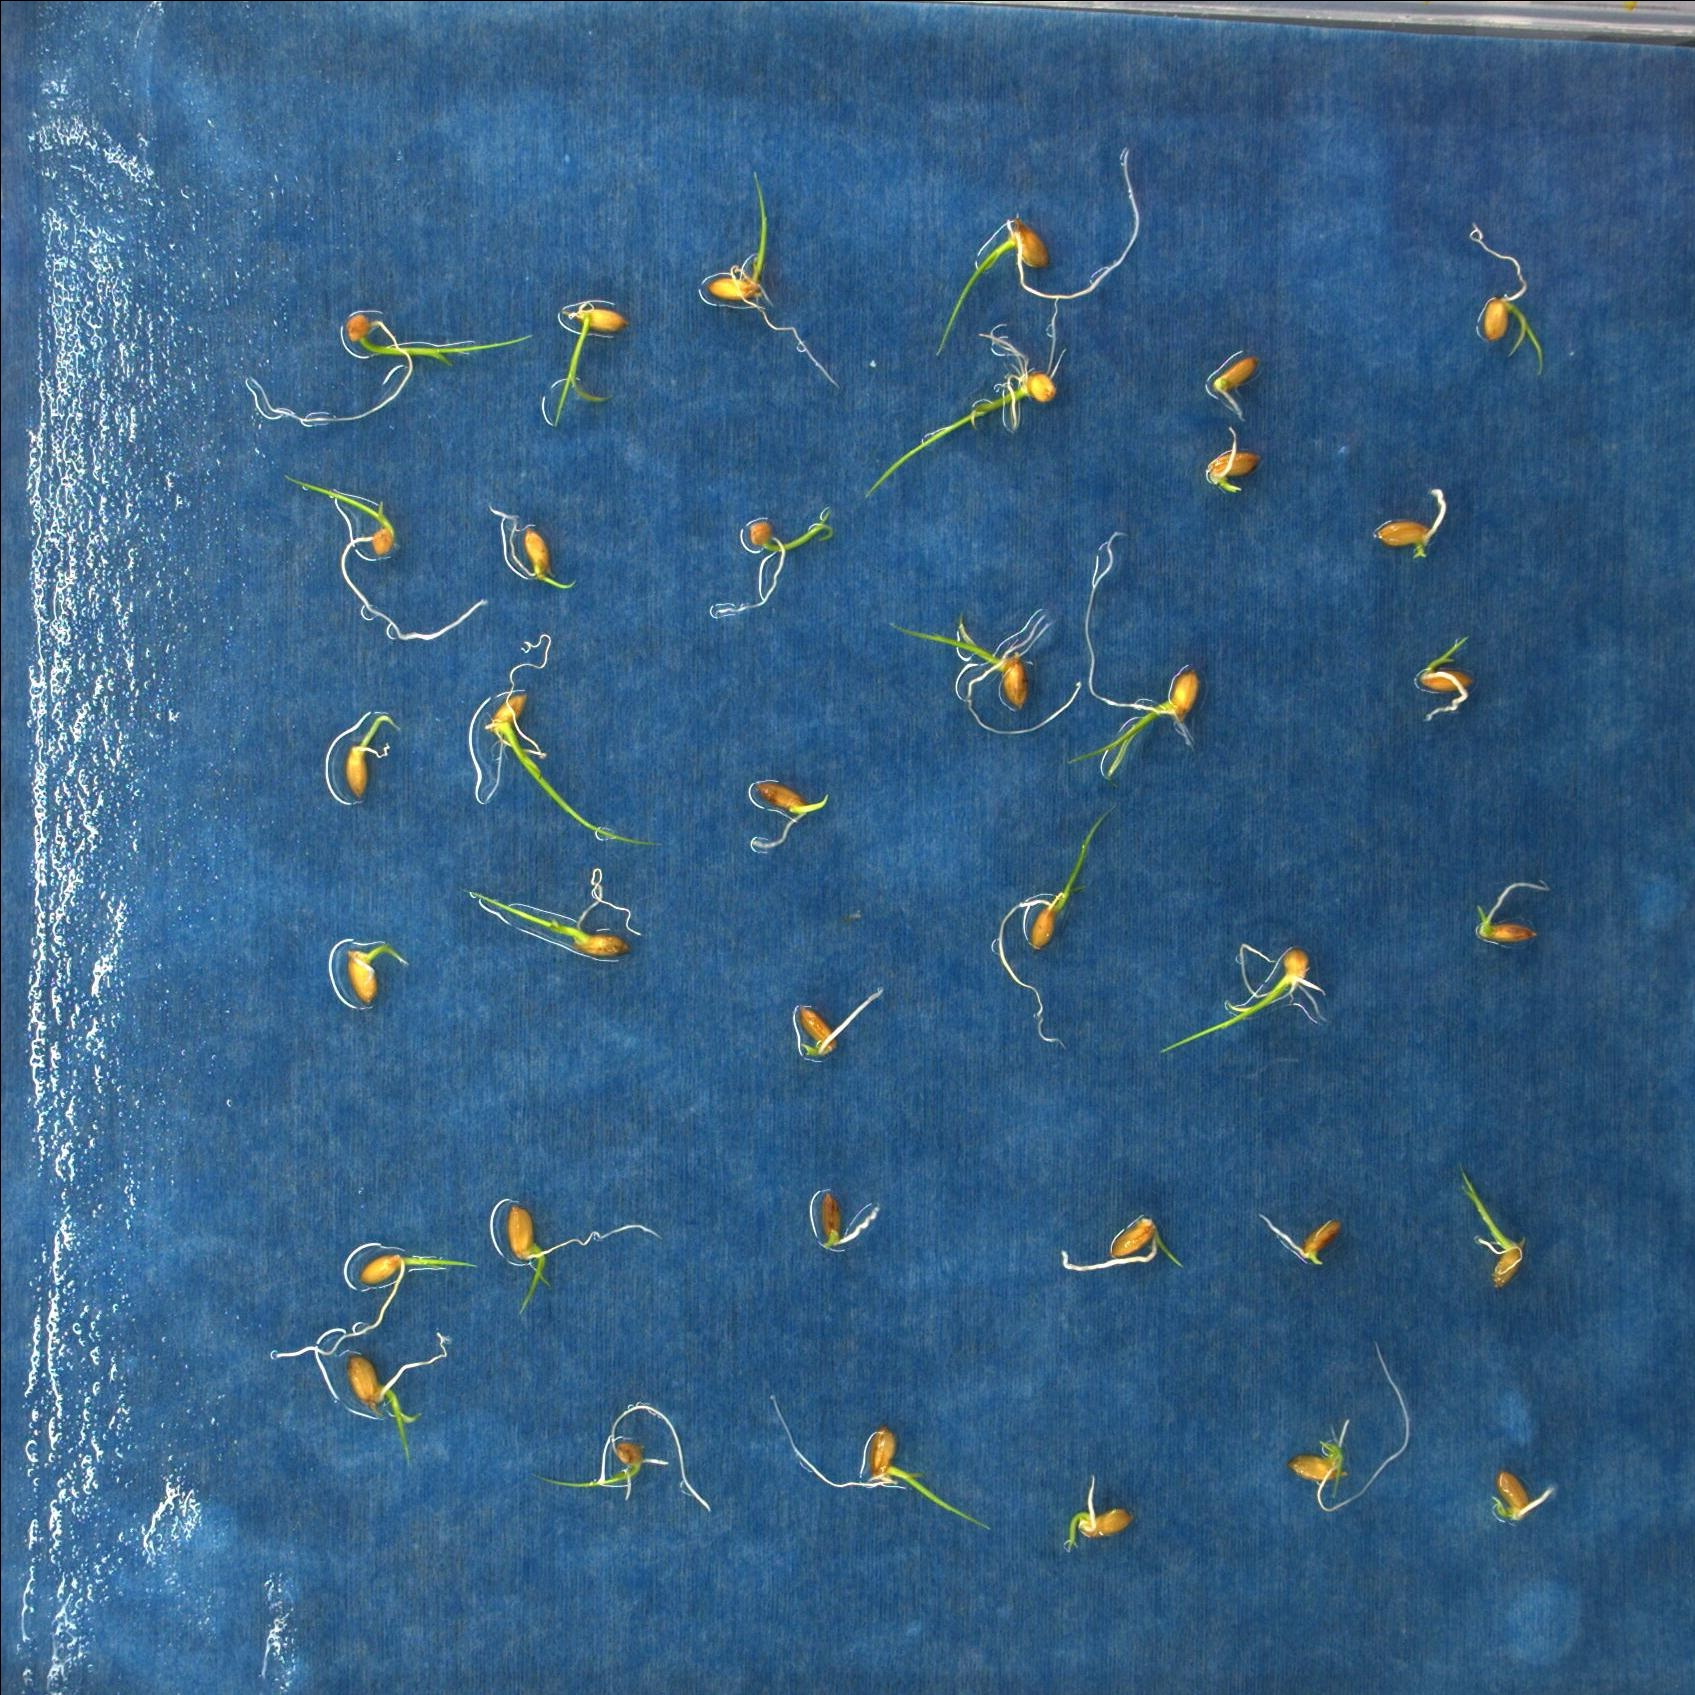not sprout: (795, 987, 885, 1060), (1371, 486, 1444, 560), (802, 1191, 883, 1257), (1259, 1208, 1340, 1267), (1197, 349, 1256, 421)
sprout: (934, 143, 1141, 357), (861, 296, 1065, 497), (484, 633, 664, 847), (1063, 531, 1200, 782), (241, 309, 534, 425), (284, 473, 486, 643), (771, 1394, 993, 1534), (705, 168, 841, 393), (992, 809, 1107, 1052), (877, 615, 1083, 736), (275, 1245, 480, 1360), (1288, 1333, 1412, 1513), (536, 1400, 714, 1515), (1156, 942, 1329, 1060), (459, 866, 646, 965), (506, 1201, 664, 1316), (709, 504, 838, 612), (351, 1335, 452, 1471), (1467, 224, 1544, 379), (540, 300, 626, 427), (1458, 1167, 1526, 1295), (487, 503, 577, 591), (1063, 1212, 1184, 1273), (745, 778, 830, 849), (1066, 1473, 1135, 1554), (1414, 633, 1473, 723), (1478, 879, 1554, 945), (345, 719, 400, 795), (345, 942, 408, 1004), (1205, 425, 1257, 497), (1492, 1468, 1554, 1527)
